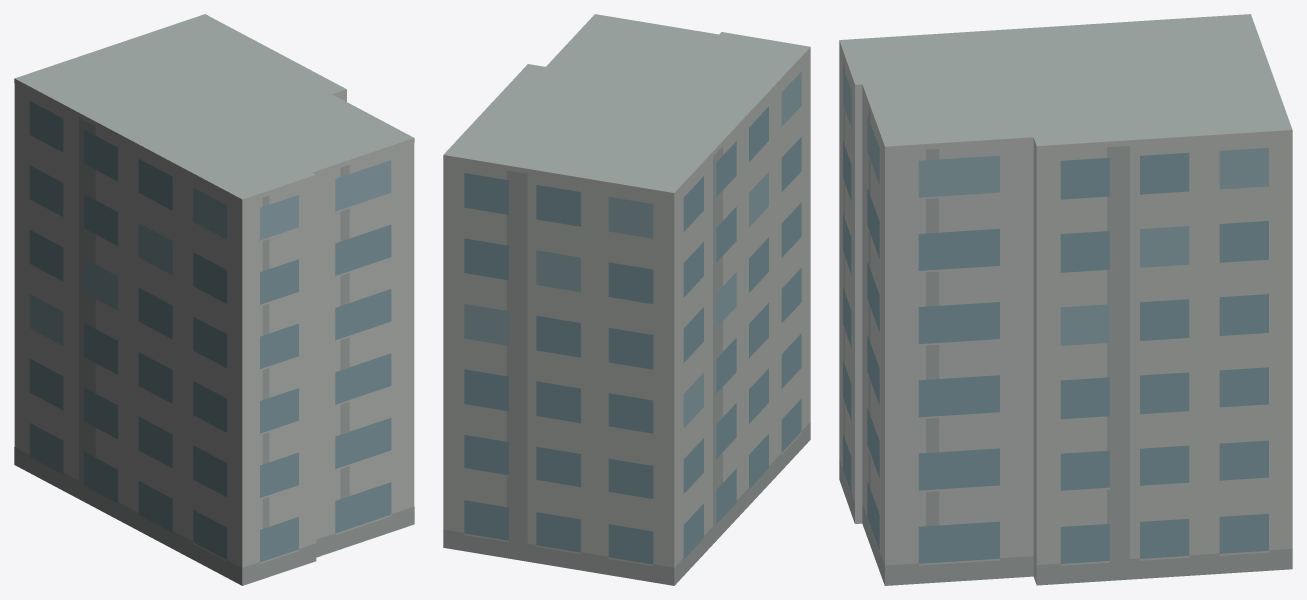
The model's file is survey-upis-32926981.glb.
3 renders of one model, left to right at view 1: azimuth 30°, elevation 25°; view 2: azimuth 150°, elevation 25°; view 3: azimuth 270°, elevation 25°, orthographic. The views are drawn at different scales.
Parts seen in each view (by area): view 1: survey-upis-32926981.tmp; view 2: survey-upis-32926981.tmp; view 3: survey-upis-32926981.tmp.
Boxes of the visible parts, <box> form: survey-upis-32926981.tmp: <box>14,14,414,585</box>; survey-upis-32926981.tmp: <box>443,14,810,585</box>; survey-upis-32926981.tmp: <box>839,14,1292,585</box>.
Size of the model in its own units: 12.51 by 19.3 by 18.06.
